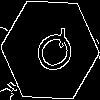Q: (25, 25, 79, 82)
